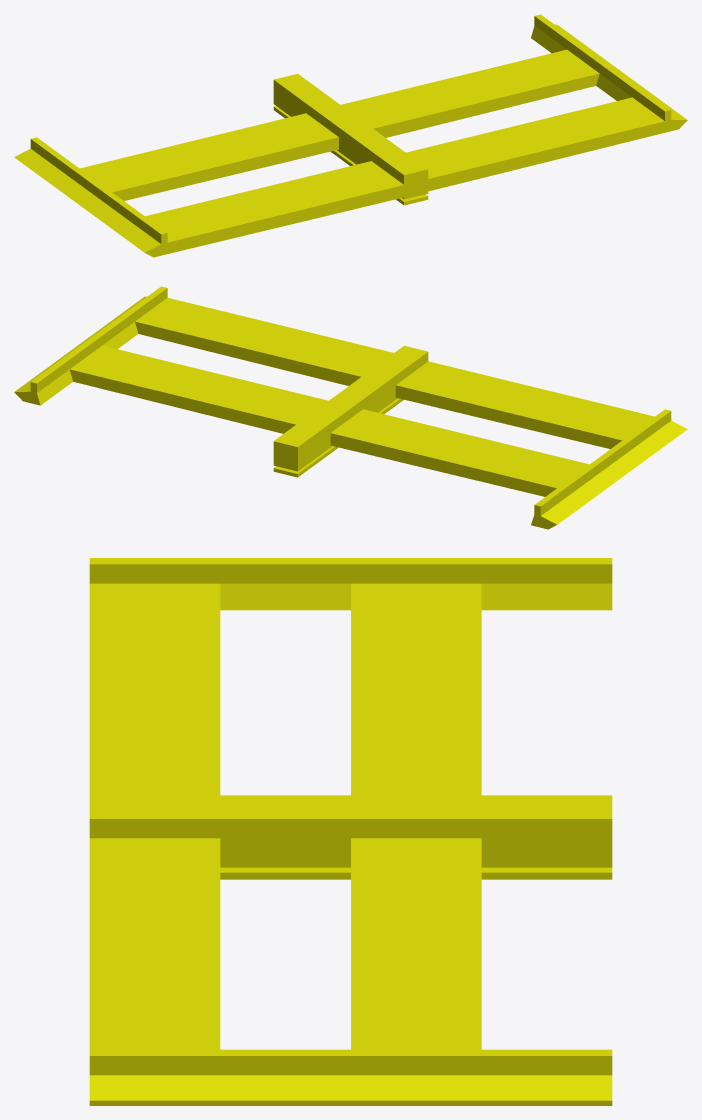
The model's file is Mdl_Vagon_techo_hueco.fbx.
3 views of the same model, one above another, from view 1: azimuth 30°, elevation 25°; view 2: azimuth 150°, elevation 25°; view 3: azimuth 270°, elevation 25° (orthographic). The views are drawn at different scales.
Visible parts, largest first — view 1: Mdl_Vagon_techo_hueco; view 2: Mdl_Vagon_techo_hueco; view 3: Mdl_Vagon_techo_hueco.
Boxes of the visible parts, x1,y1,x2,y2 form: Mdl_Vagon_techo_hueco: [14, 14, 687, 257]; Mdl_Vagon_techo_hueco: [14, 286, 687, 529]; Mdl_Vagon_techo_hueco: [89, 558, 612, 1105].
Bounding box in the file's own units: 59.53 × 3.18 × 24.78.
